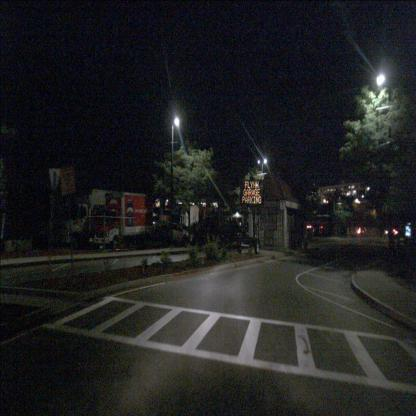vehicle-car: (167, 223, 194, 243)
vehicle-truck: (93, 190, 153, 250), (62, 204, 105, 249)
